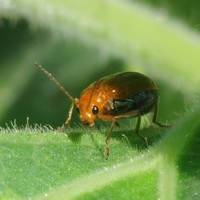insect: (35, 63, 169, 158)
